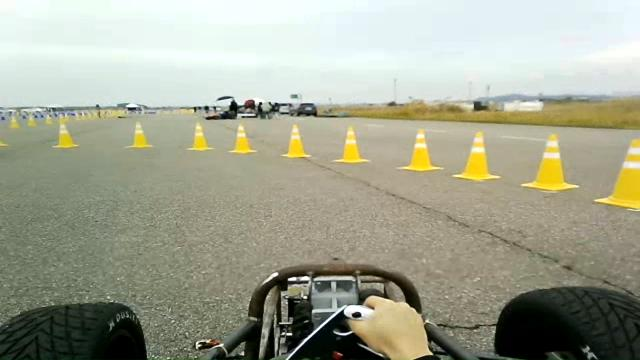yellow cone: (520, 133, 579, 191), (593, 138, 639, 210), (452, 131, 500, 180), (396, 128, 444, 172), (332, 126, 370, 163), (281, 123, 311, 158), (228, 123, 258, 153), (186, 121, 213, 151), (124, 121, 154, 148), (52, 118, 78, 148), (0, 139, 8, 146)
